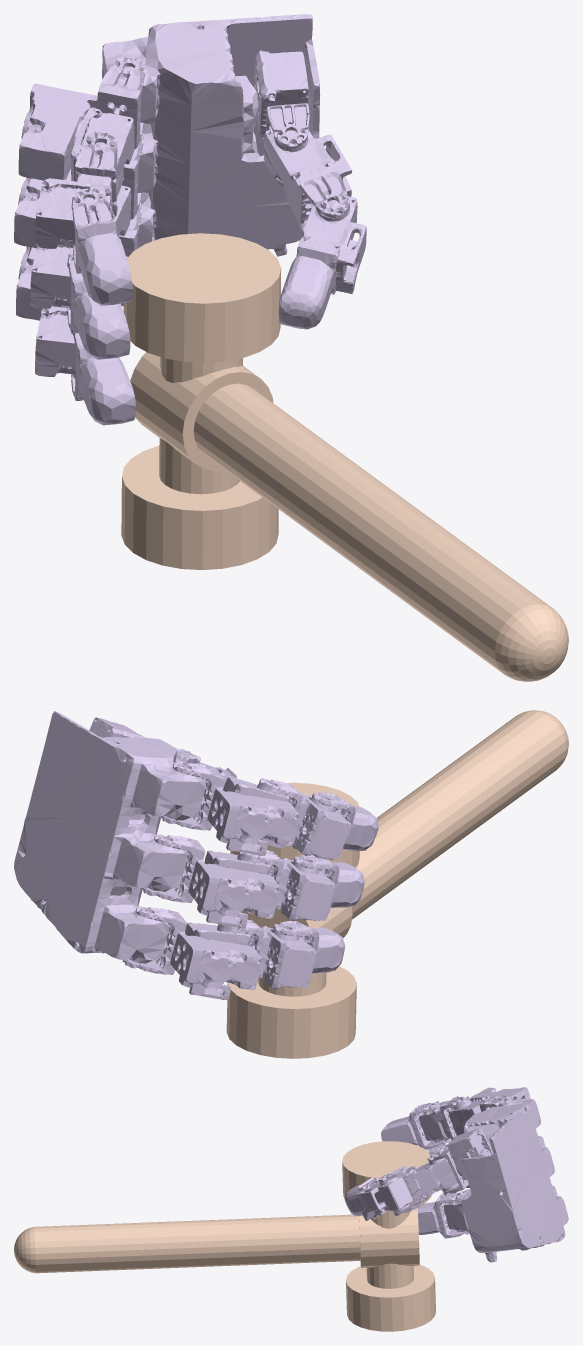
The model's file is 955aedbd35ca46-final.glb.
The picture shows the model from 3 angles, top to bottom: view 1: azimuth 30°, elevation 25°; view 2: azimuth 150°, elevation 25°; view 3: azimuth 270°, elevation 25°; orthographic projection. The views are drawn at different scales.
Parts seen in each view (by area): view 1: LEAP_hand, world; view 2: LEAP_hand, world; view 3: world, LEAP_hand.
Boxes of the visible parts, x1,y1,x2,y2 form: LEAP_hand: (14, 14, 366, 425); world: (121, 233, 568, 681); LEAP_hand: (14, 711, 378, 999); world: (226, 710, 568, 1058); world: (14, 1141, 435, 1331); LEAP_hand: (344, 1087, 568, 1262).
Size of the model in its own units: 0.1902 by 0.2184 by 0.473.
